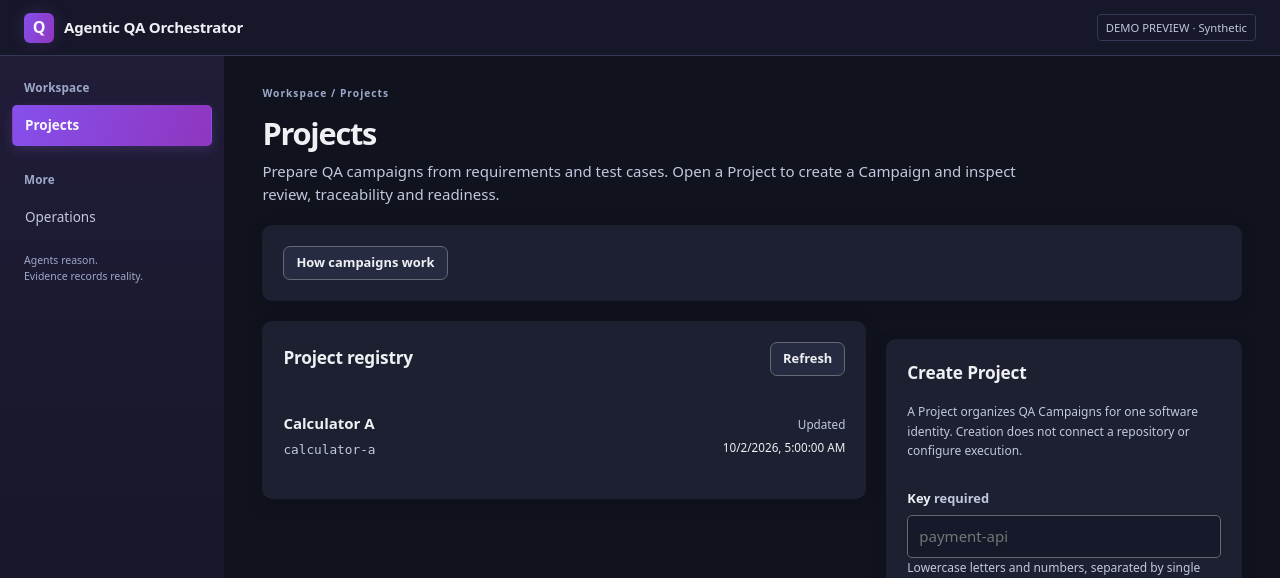
keeps the preview notice and Project routing, with no additional request when help opens
Expected: the text "DEMO PREVIEW · Synthetic" is shown, [1097,14,1256,41]
Click the button "How campaigns work".
click(366, 263)  # box [283,246,448,280]
(page scrolled)
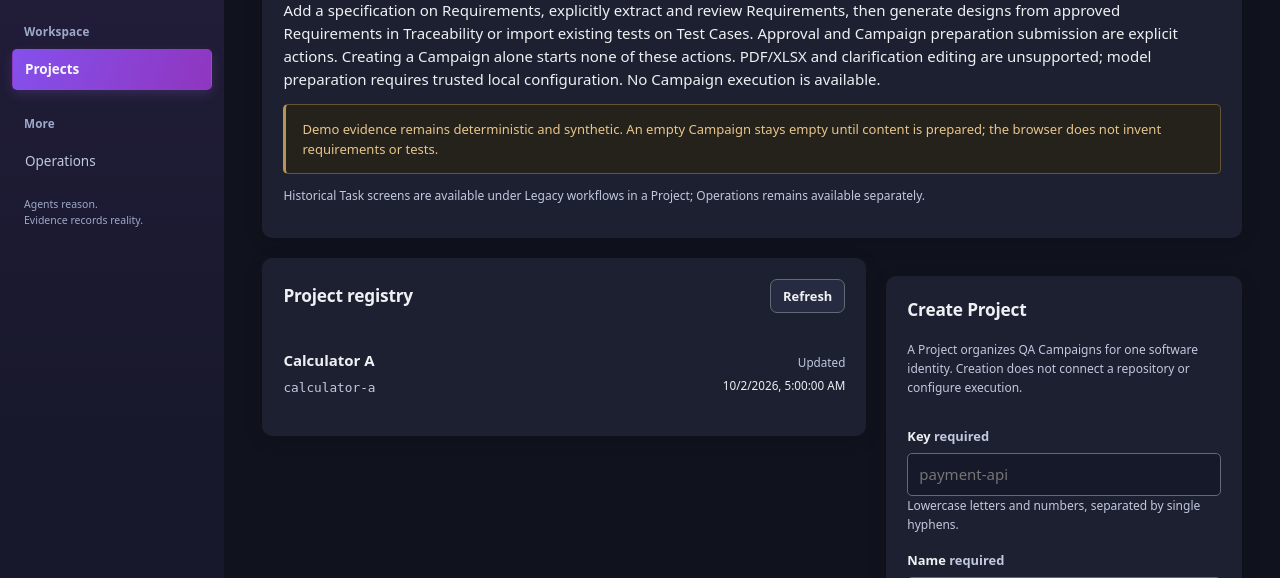
Click the link "Calculator A".
click(329, 360)  # box [283,350,375,370]
(page scrolled)
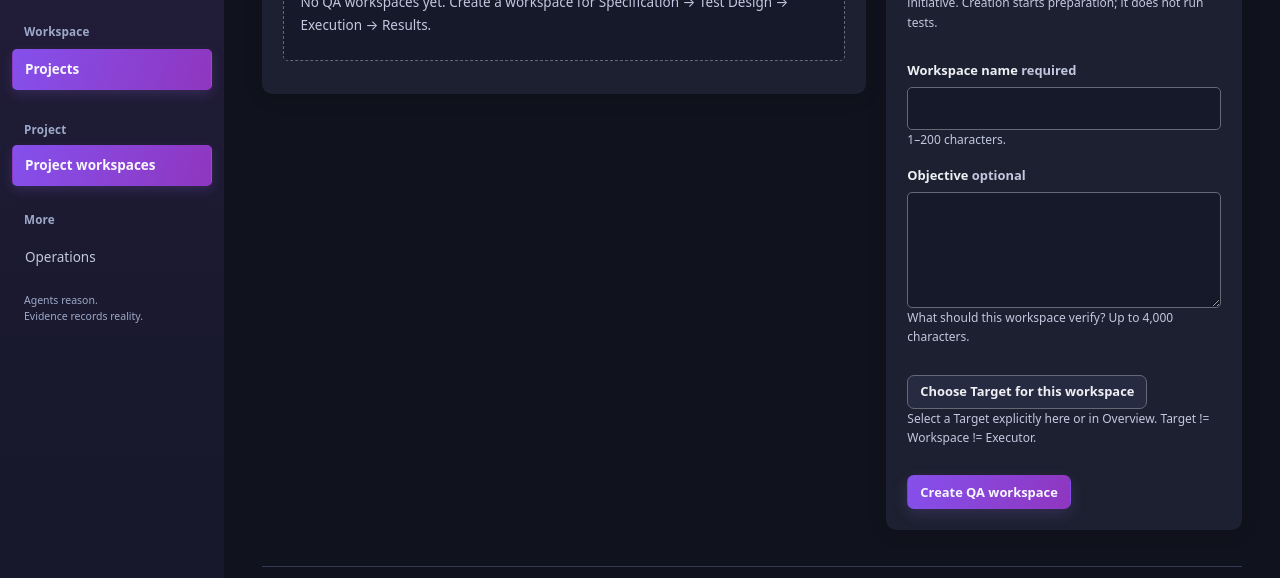
Now the button "Create QA workspace" is shown, box [907,475,1071,509]
